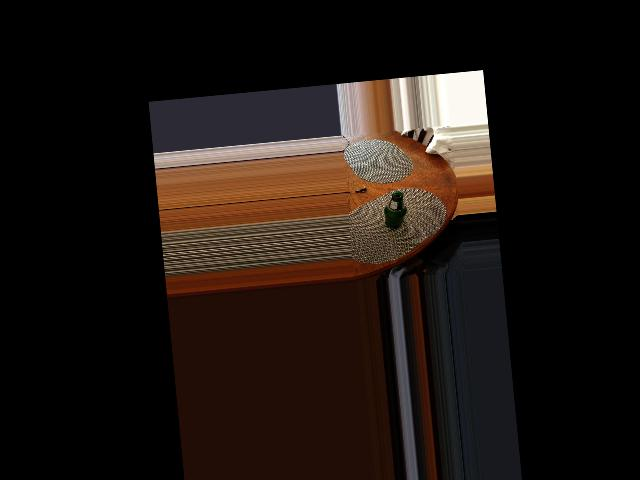beer: (383, 191, 409, 229)
